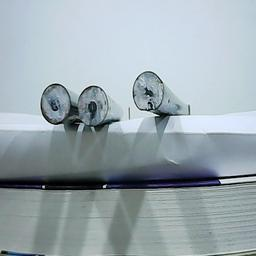pen: (40, 83, 72, 125), (77, 84, 109, 126), (131, 69, 163, 111)
